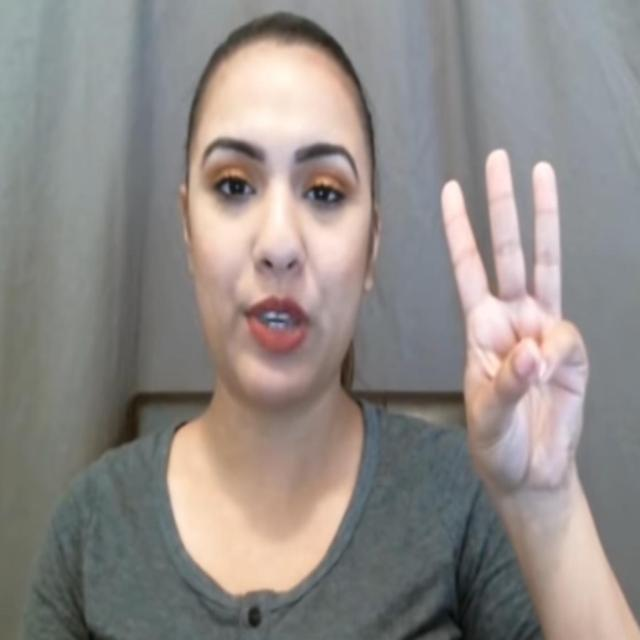W: (433, 142, 592, 495)
